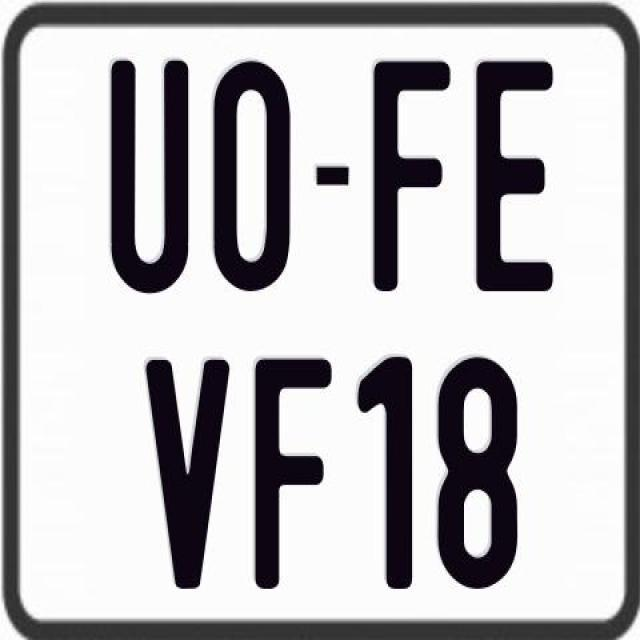0: (214, 56, 294, 288)
1: (354, 356, 410, 588)
8: (436, 356, 518, 594)
E: (474, 58, 556, 288)
F: (250, 355, 334, 586), (374, 61, 454, 300)
U: (106, 56, 192, 288)
V: (146, 357, 230, 589)
